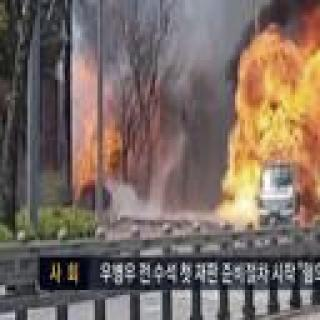fire: (233, 33, 320, 216), (74, 116, 110, 177)
